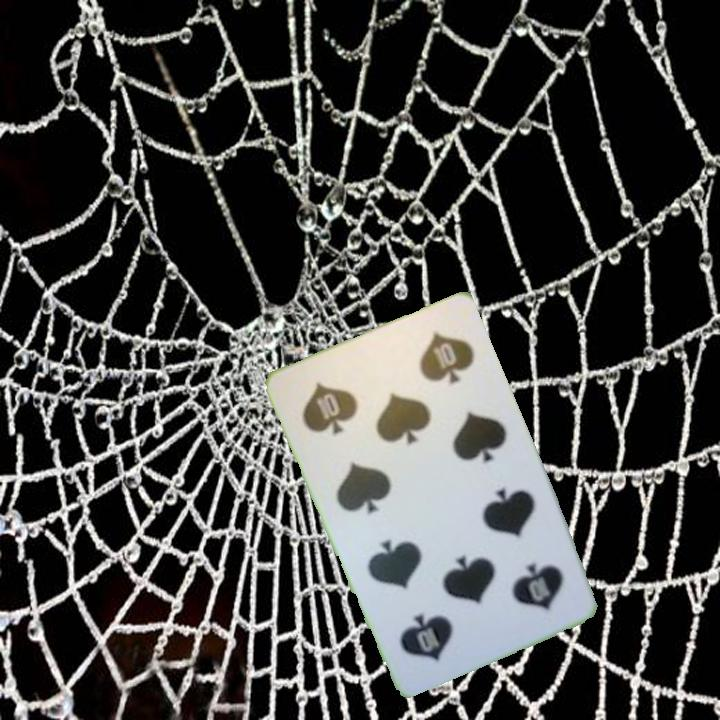s_10.png: (460, 528, 584, 644), (282, 347, 405, 463)
